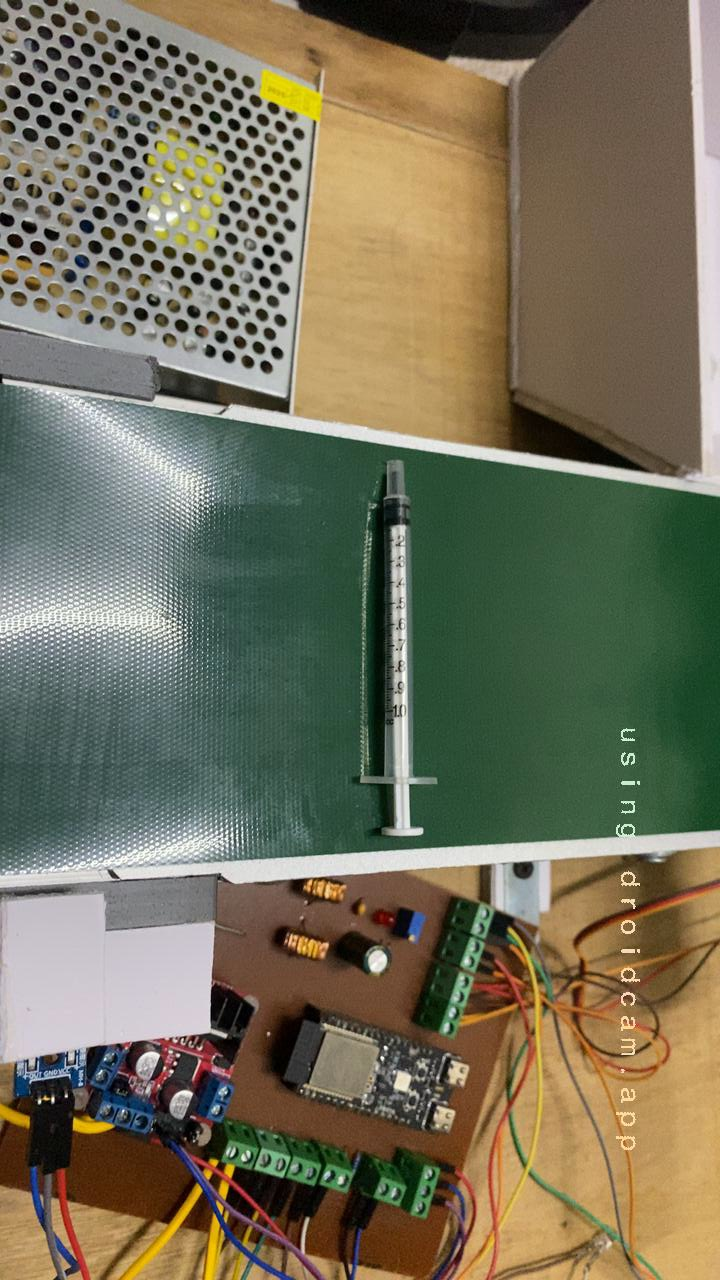syringe: (316, 461, 472, 865)
